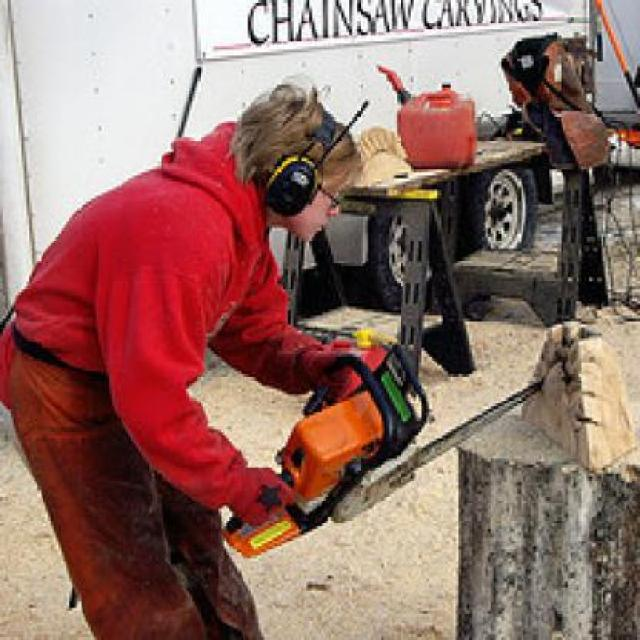Chainsaw: (218, 312, 552, 560)
